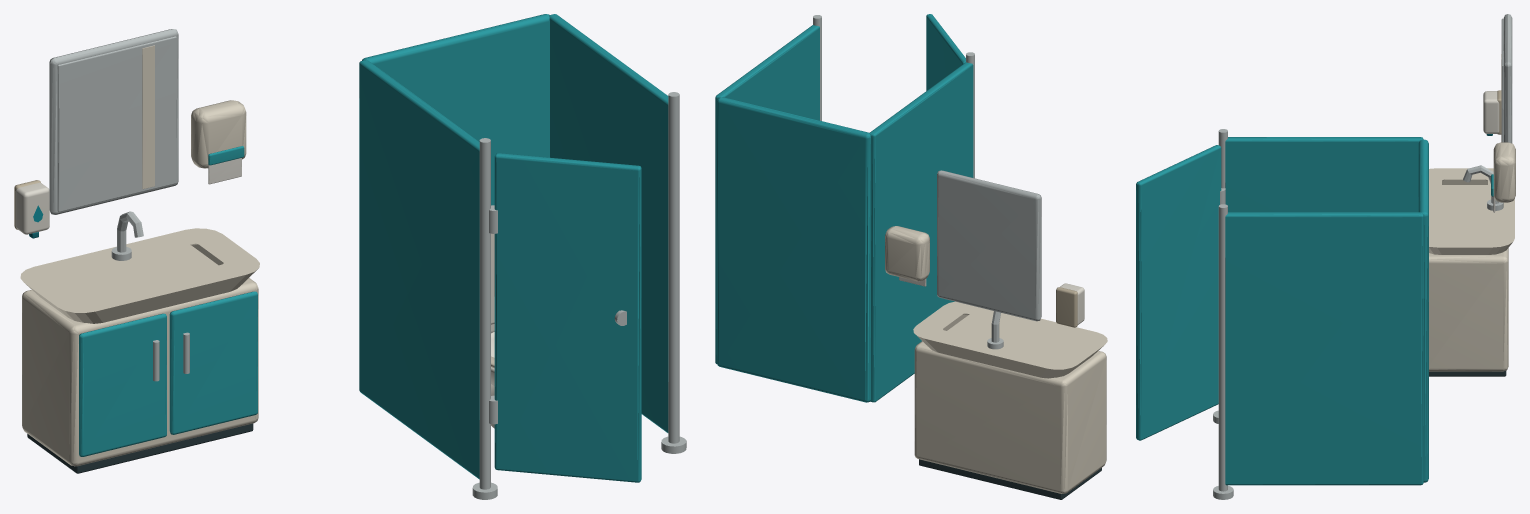
The model's file is 13_restroom_standard_assembly.glb.
3 views of the same model, side by side, from view 1: azimuth 30°, elevation 25°; view 2: azimuth 150°, elevation 25°; view 3: azimuth 270°, elevation 25° (orthographic). The views are drawn at different scales.
Parts seen in each view (by area): view 1: 13_standard_cubicle__Static, 13_standard_washstand__Static, 13_standard_cubicle__door_moving, 13_standard_mirror__Static, 13_standard_towel_dispenser__Static, 13_standard_soap_dispenser__Static; view 2: 13_standard_cubicle__Static, 13_standard_washstand__Static, 13_standard_mirror__Static, 13_standard_towel_dispenser__Static, 13_standard_cubicle__door_moving, 13_standard_soap_dispenser__Static; view 3: 13_standard_cubicle__Static, 13_standard_cubicle__door_moving, 13_standard_washstand__Static, 13_standard_mirror__Static, 13_standard_towel_dispenser__Static, 13_standard_soap_dispenser__Static.
Part boxes in pixels (x1,y1,x2,y2): 13_standard_cubicle__Static: [359, 14, 686, 499]; 13_standard_washstand__Static: [20, 211, 259, 473]; 13_standard_cubicle__door_moving: [494, 153, 641, 482]; 13_standard_mirror__Static: [49, 29, 178, 214]; 13_standard_towel_dispenser__Static: [191, 100, 246, 184]; 13_standard_soap_dispenser__Static: [14, 180, 49, 238]; 13_standard_cubicle__Static: [715, 15, 974, 402]; 13_standard_washstand__Static: [913, 301, 1107, 499]; 13_standard_mirror__Static: [937, 170, 1041, 321]; 13_standard_towel_dispenser__Static: [885, 226, 929, 286]; 13_standard_cubicle__door_moving: [926, 14, 965, 90]; 13_standard_soap_dispenser__Static: [1056, 283, 1084, 327]; 13_standard_cubicle__Static: [1213, 129, 1428, 499]; 13_standard_cubicle__door_moving: [1136, 145, 1221, 440]; 13_standard_washstand__Static: [1429, 165, 1514, 376]; 13_standard_mirror__Static: [1501, 14, 1512, 143]; 13_standard_towel_dispenser__Static: [1491, 142, 1515, 212]; 13_standard_soap_dispenser__Static: [1483, 90, 1501, 135].
Bounding box in the file's own units: 2.97 × 2.11 × 2.39.
